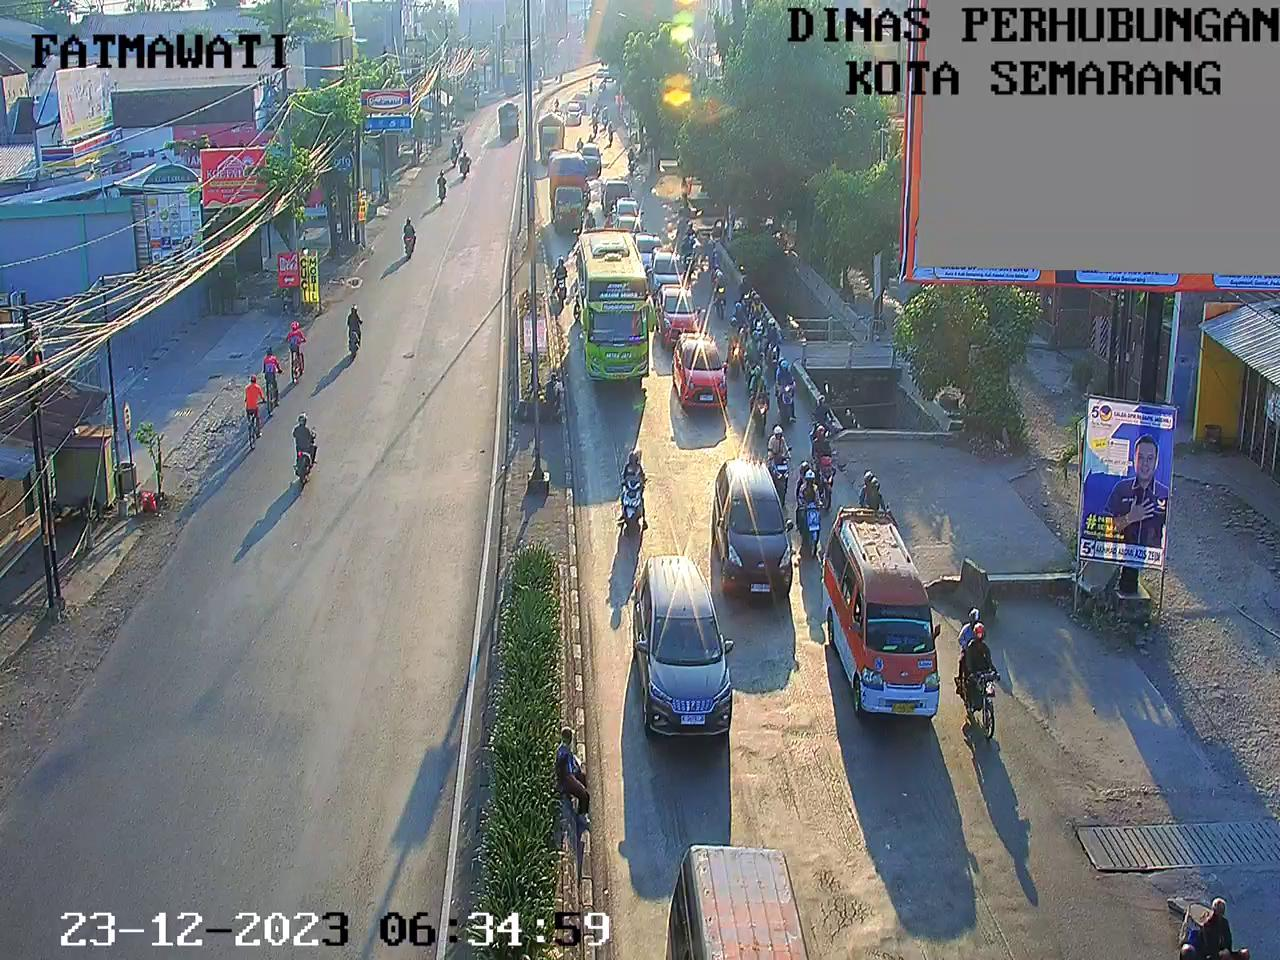car: (844, 509, 942, 726), (634, 560, 746, 742), (656, 849, 828, 960), (707, 461, 802, 598), (671, 335, 730, 408), (659, 282, 706, 342), (630, 230, 667, 270), (651, 250, 681, 295), (614, 200, 651, 234), (599, 179, 641, 205), (578, 142, 604, 169), (567, 102, 582, 129), (570, 90, 588, 112), (600, 63, 614, 80), (597, 68, 605, 81)
motorcycle: (958, 610, 1003, 742), (621, 453, 657, 541), (855, 470, 902, 532), (768, 424, 806, 498), (793, 462, 827, 542), (809, 428, 844, 505), (748, 368, 781, 435), (779, 352, 803, 427), (811, 394, 838, 459), (548, 250, 577, 308), (724, 320, 751, 377), (745, 291, 771, 340), (707, 266, 733, 312), (577, 200, 602, 245), (722, 302, 750, 341), (741, 325, 763, 371), (675, 241, 698, 280), (736, 270, 757, 307), (771, 316, 785, 365), (678, 216, 700, 246), (578, 178, 596, 204), (625, 148, 641, 175), (571, 135, 588, 157), (605, 119, 618, 145), (590, 104, 603, 125), (588, 118, 601, 136), (599, 77, 613, 91), (585, 131, 595, 146), (551, 95, 560, 111), (603, 105, 611, 123), (589, 79, 596, 94), (598, 82, 603, 94)
truck: (577, 236, 657, 386), (550, 148, 586, 232), (539, 117, 566, 155)
